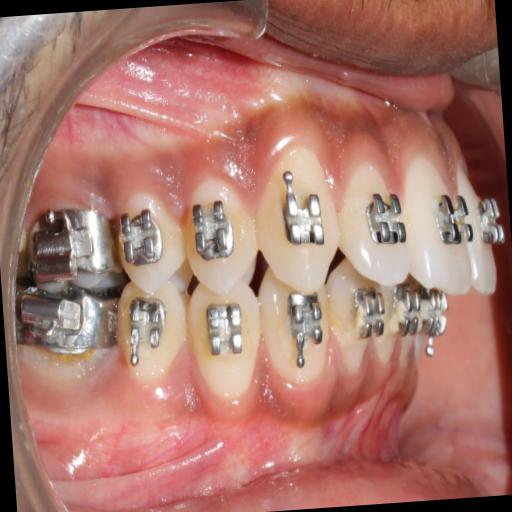correct_brace: (182, 277, 268, 412), (178, 174, 263, 296), (276, 164, 336, 263), (362, 172, 408, 259), (430, 184, 474, 252), (127, 296, 170, 362)
incorrect_brace: (334, 160, 410, 290), (198, 298, 252, 361), (190, 197, 236, 265)
